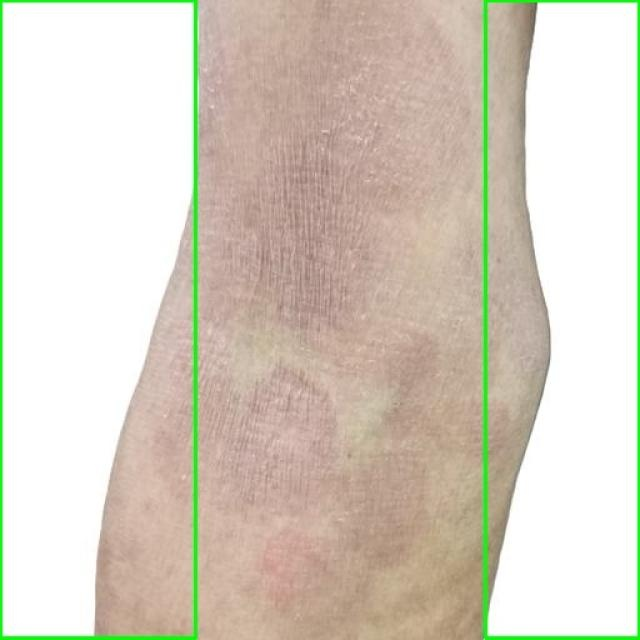Eczema: (0, 0, 196, 639), (485, 0, 639, 639)
